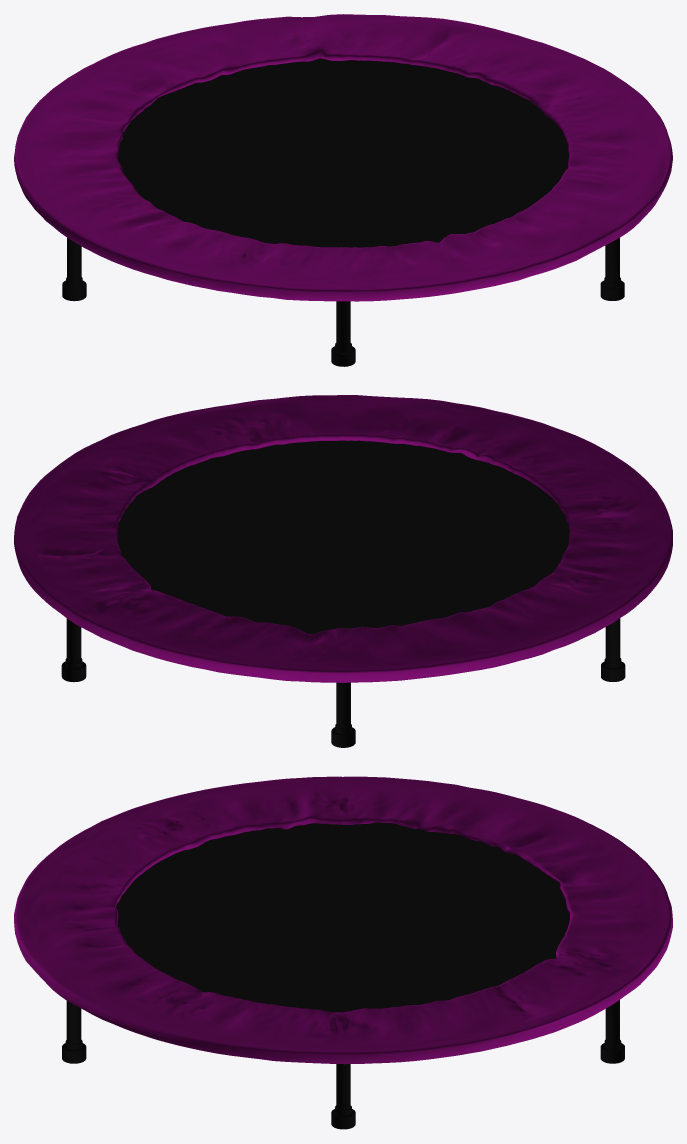
3 views of the same model, one above another, from view 1: azimuth 30°, elevation 25°; view 2: azimuth 150°, elevation 25°; view 3: azimuth 270°, elevation 25° (orthographic).
Parts seen in each view (by area): view 1: Object_3, Object_2; view 2: Object_3, Object_2; view 3: Object_3, Object_2.
Part boxes in pixels (bbox=[...]): Object_3: bbox=[14, 14, 672, 366]; Object_2: bbox=[118, 58, 569, 247]; Object_3: bbox=[14, 395, 672, 747]; Object_2: bbox=[117, 440, 569, 634]; Object_3: bbox=[14, 776, 672, 1129]; Object_2: bbox=[115, 822, 569, 1012].
Size of the model in its own units: 31.8 by 4.34 by 31.82.
Materials: 1 (1 with a texture image).
